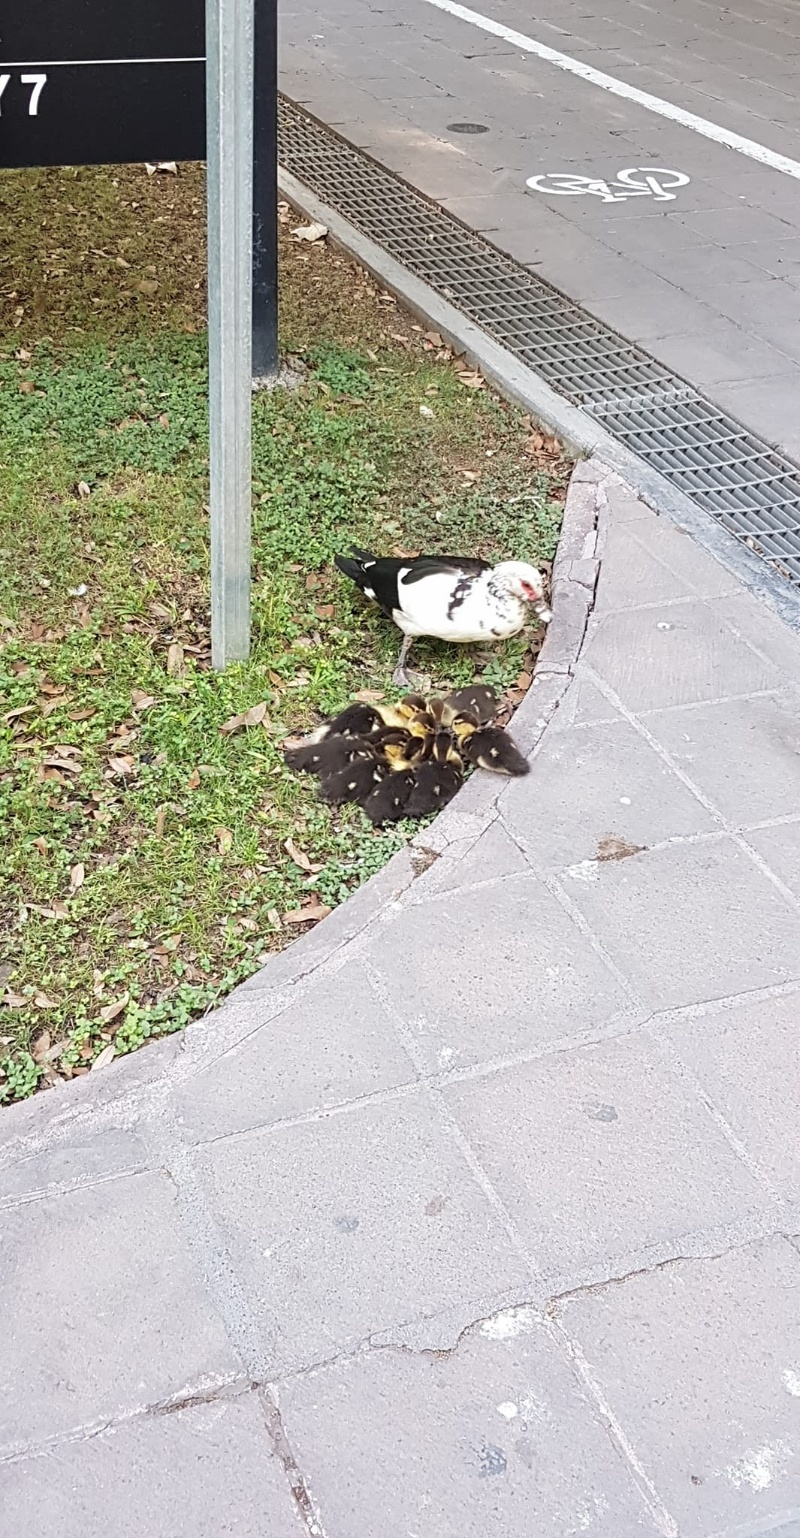pato: (333, 559, 548, 659)
